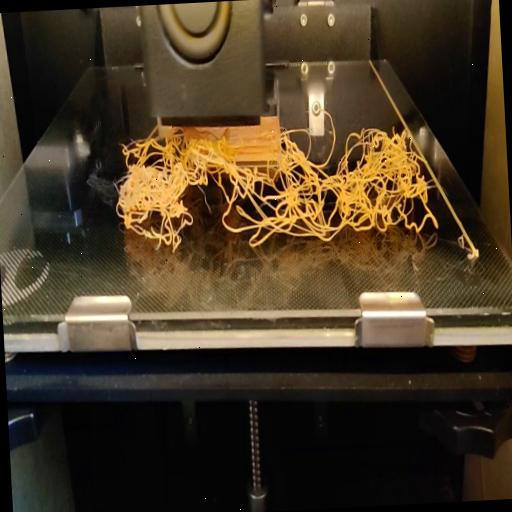spaghetti: (109, 112, 443, 256)
